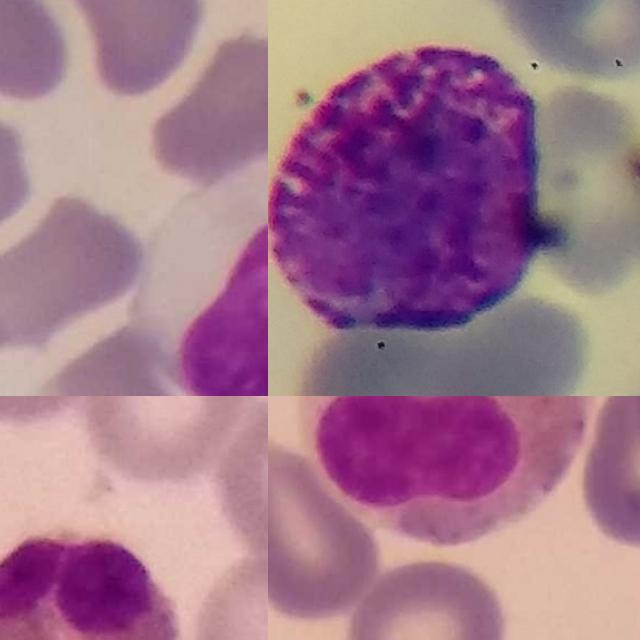Basophil: (268, 41, 540, 333)
Eosinophil: (305, 396, 600, 543), (0, 531, 183, 640)
Monocyte: (141, 136, 268, 396)
